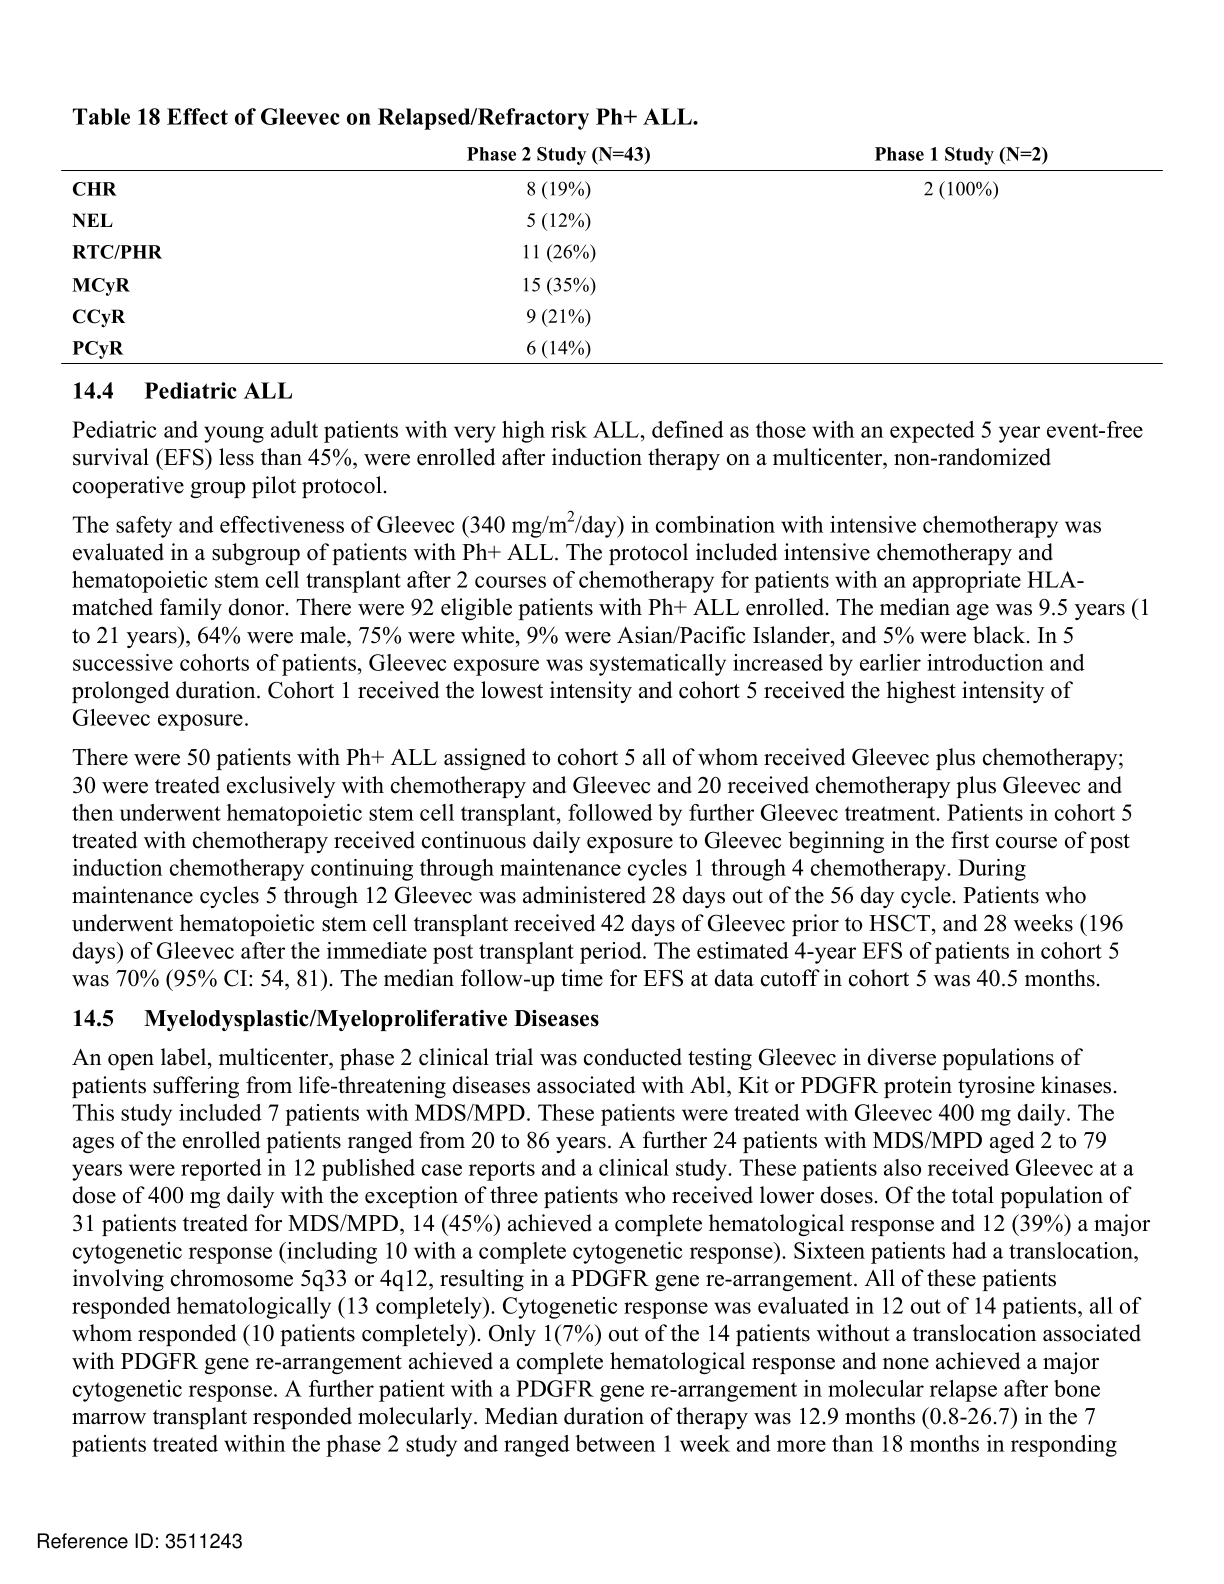partial_lined: (59, 141, 1164, 365)
